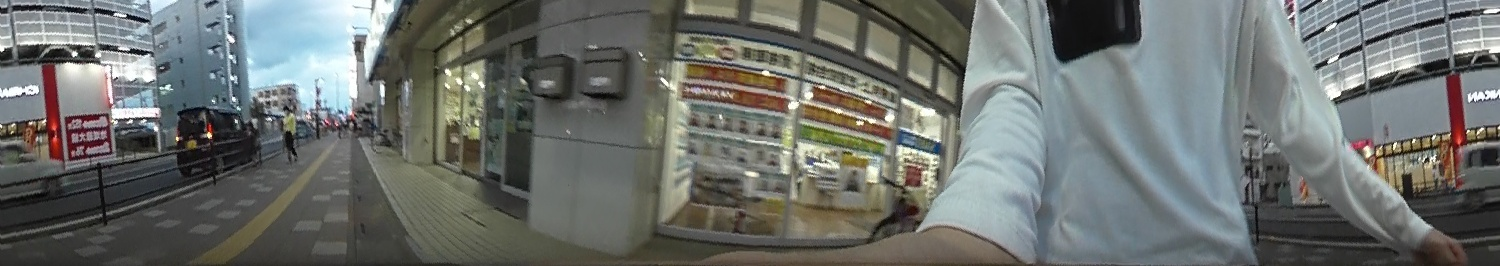difficult_person: (276, 102, 299, 163)
